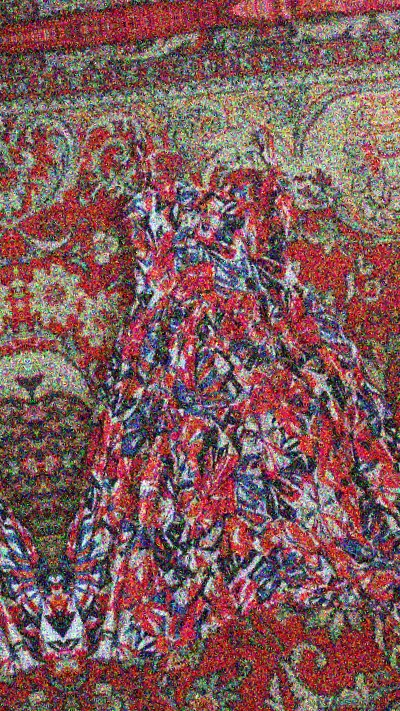Dress: (38, 100, 400, 704), (0, 153, 33, 711), (393, 54, 400, 658)
